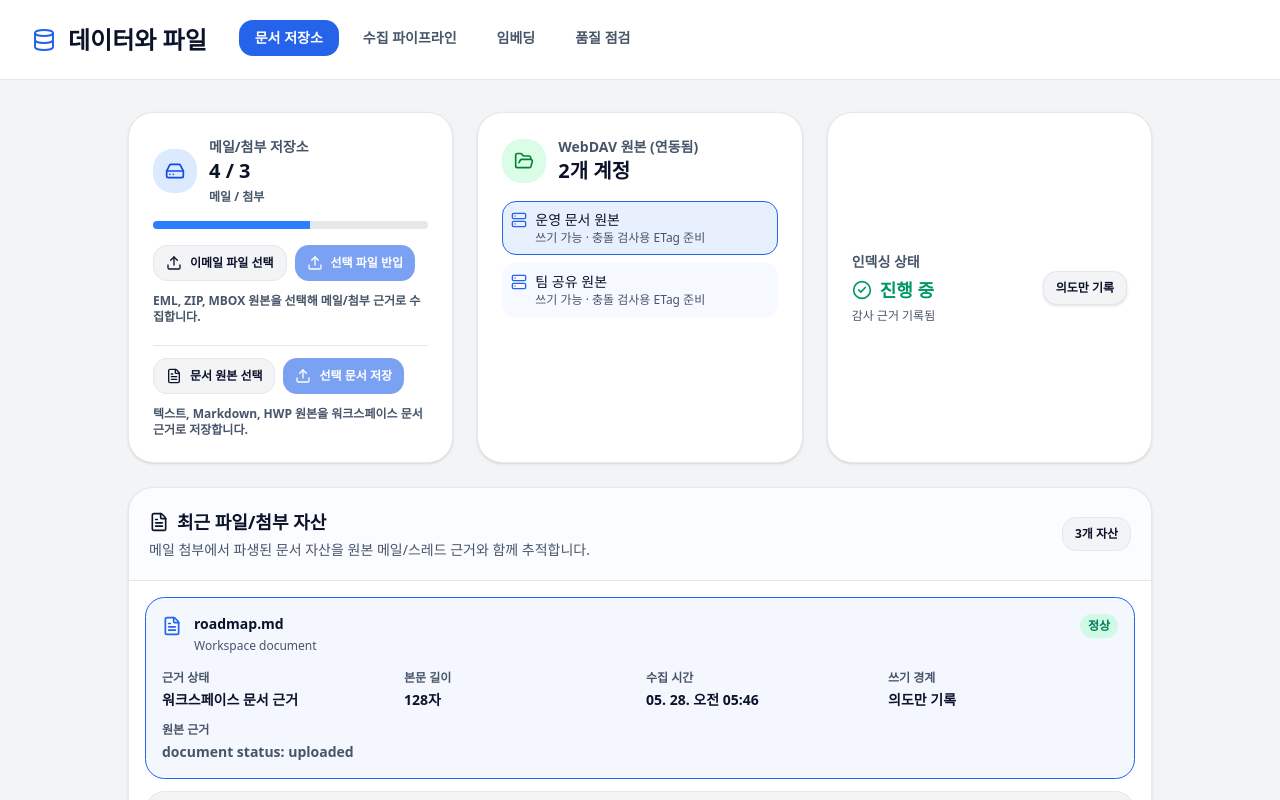
DataPage › lets the user choose a specific WebDAV source and distinguishes If-Match conflicts
Step 1. Click the button "팀 공유 원본 쓰기 가능 · 충돌 검사용 ETag 준비" → (640, 290), box [502,263,778,317]
(page scrolled)
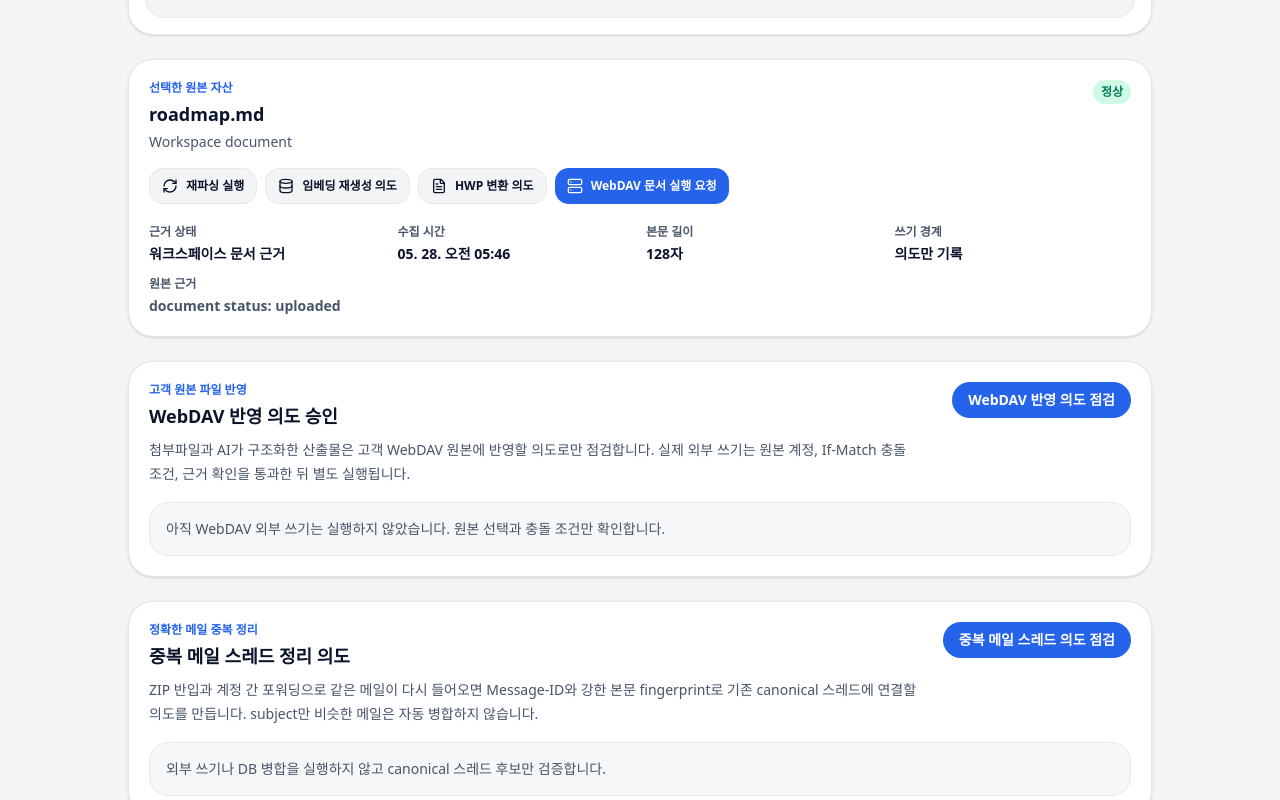
Step 2. Click the button "WebDAV 반영 의도 점검" → (1042, 400), box [952,382,1131,418]
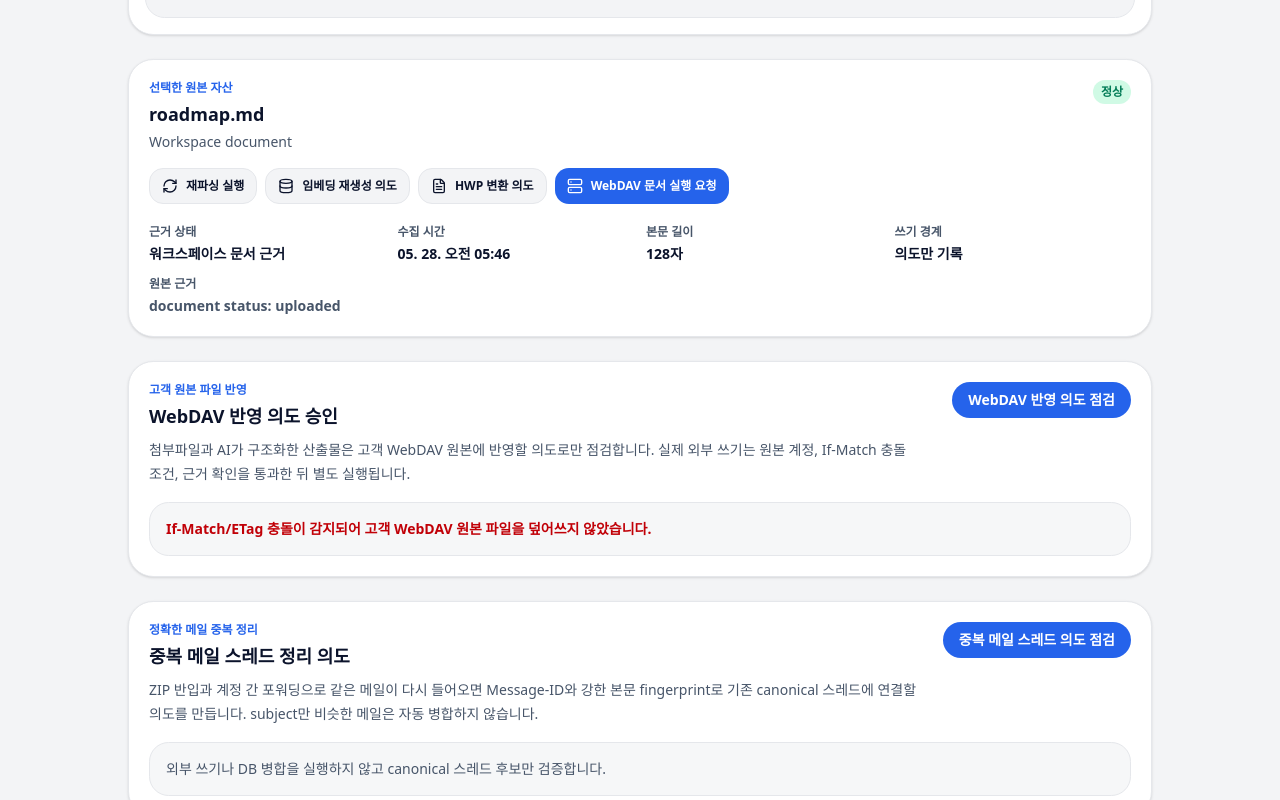
Expected: the text "If-Match/ETag 충돌" is shown, [166,519,652,538]
